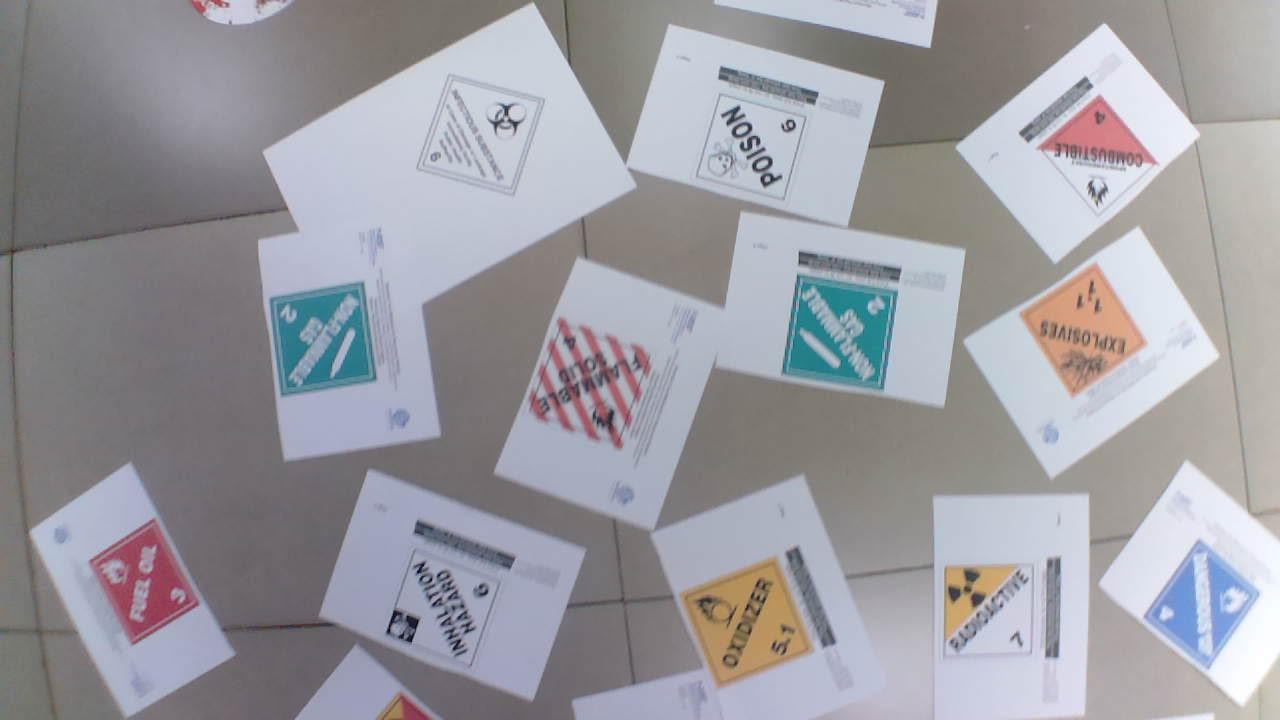dangerous-when-wet: (1148, 541, 1260, 663)
explosive: (1023, 261, 1147, 396)
flammable: (80, 515, 210, 647)
flammable-solid: (520, 311, 661, 455)
infectious-substance: (418, 71, 543, 199)
non-flammable-gas: (255, 280, 382, 404), (782, 268, 907, 387)
oxidizer: (672, 553, 823, 687)
poison: (378, 553, 509, 674), (700, 93, 818, 209)
radioactive: (938, 560, 1043, 663)
spontaneously-combustible: (1038, 90, 1164, 216)
